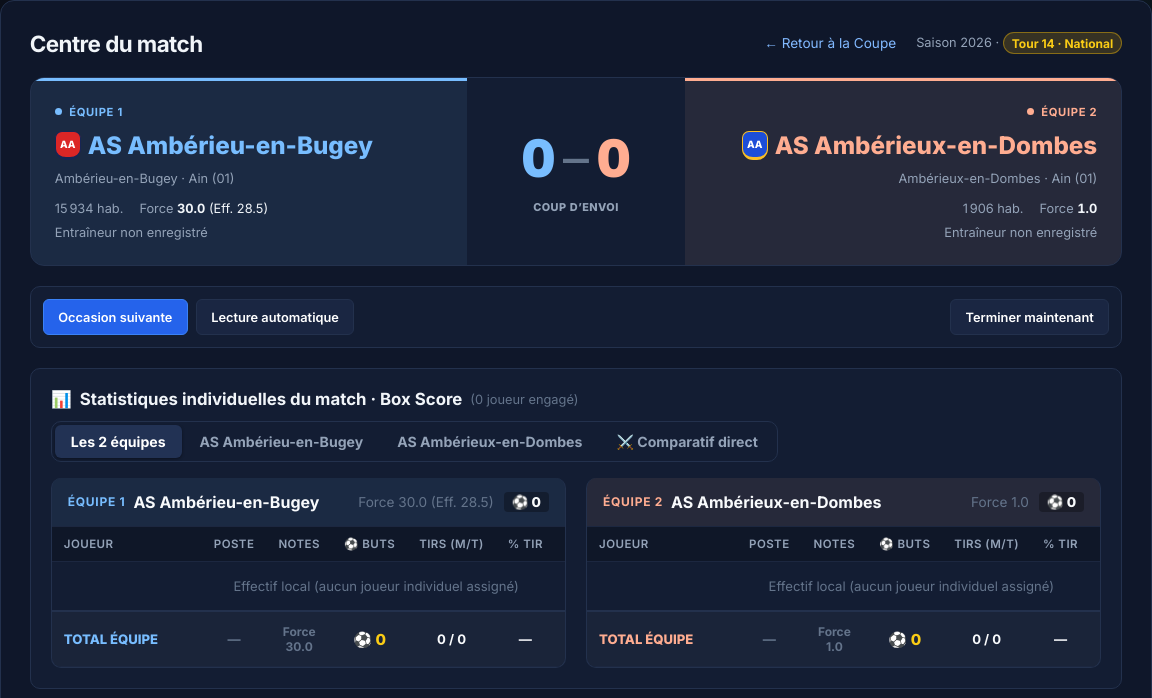
Scenario: P0 regressions › hides the total number of actions during match reveal to keep suspense
The image size is (1152, 698).
Expected: the element with class "live-score" shows "Coup d’envoi", [533,200,619,214]
Click the button "Occasion suivante".
click(115, 317)  # box [43,299,188,335]
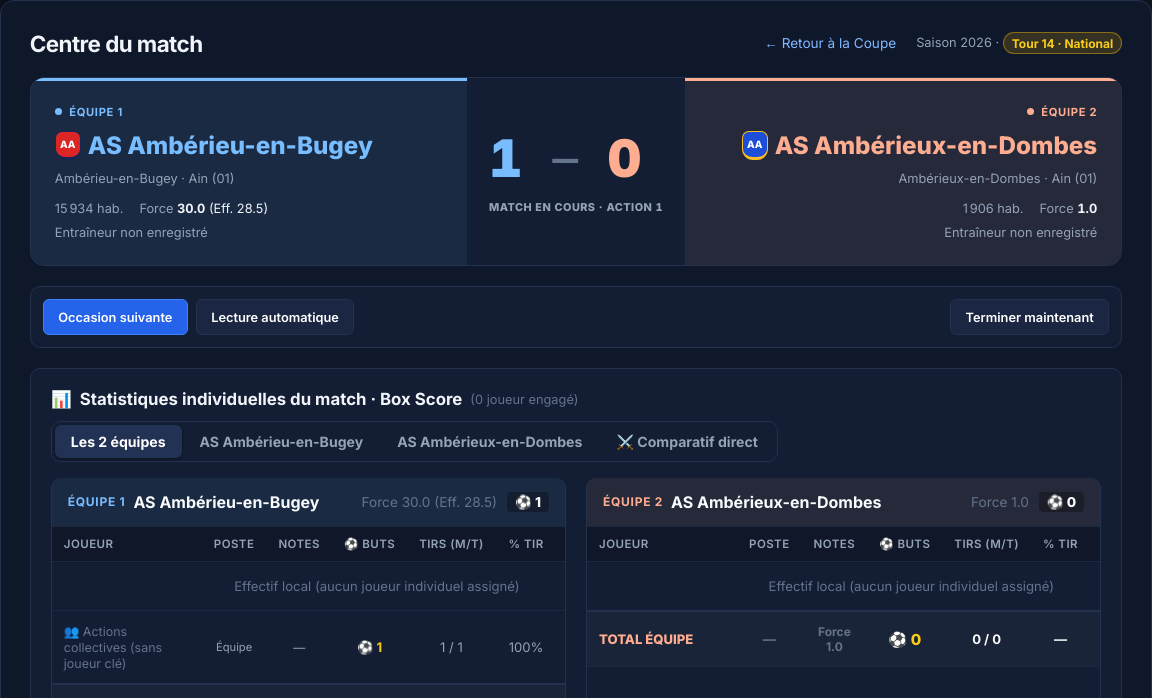
Expected: the element with class "live-score" shows "Action 1", [489,200,663,214]
